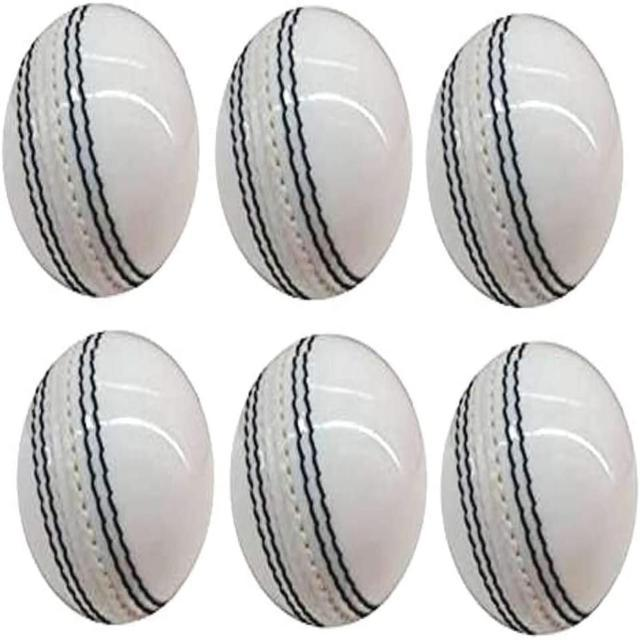cricket ball: (1, 1, 200, 300), (17, 328, 215, 628), (426, 14, 624, 310), (214, 7, 413, 301), (440, 342, 638, 636), (229, 335, 427, 628)
